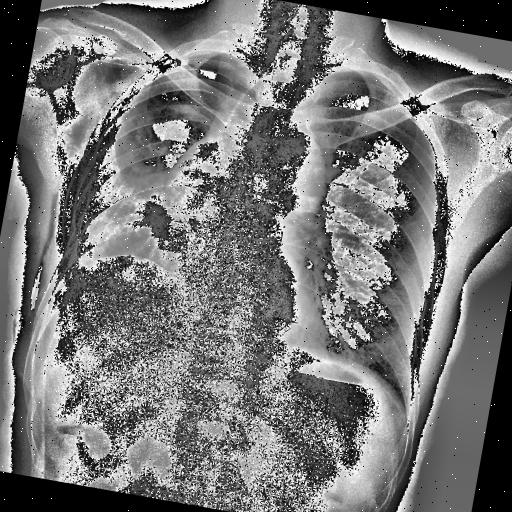0- Aortic enlargement: (254, 121, 330, 215)
1- Atelectasis: (65, 140, 138, 251)
10- Pleural effusion: (52, 248, 92, 296)
11- Pleural thickening: (52, 248, 92, 296)
4- Consolidation: (69, 126, 172, 266)
7- Lung Opacity: (74, 130, 202, 280), (69, 126, 172, 266), (146, 133, 224, 264)
8- Nodule-Mass: (146, 133, 224, 264)
9- Other lesion: (43, 31, 135, 166), (208, 49, 296, 177), (0, 184, 63, 356), (60, 50, 130, 154), (24, 194, 66, 316), (26, 190, 60, 310), (0, 302, 25, 349), (176, 154, 195, 170), (173, 54, 183, 67), (174, 56, 182, 67)
